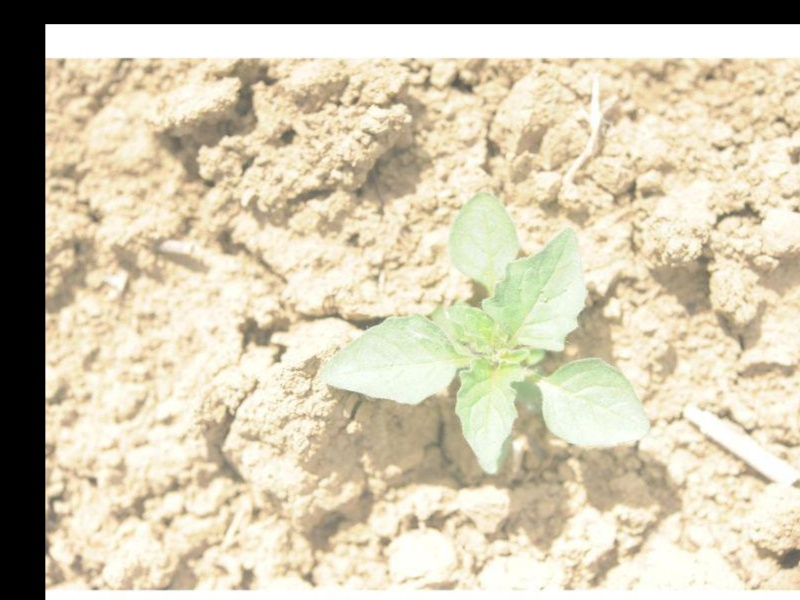nightshade: (326, 191, 649, 471)
